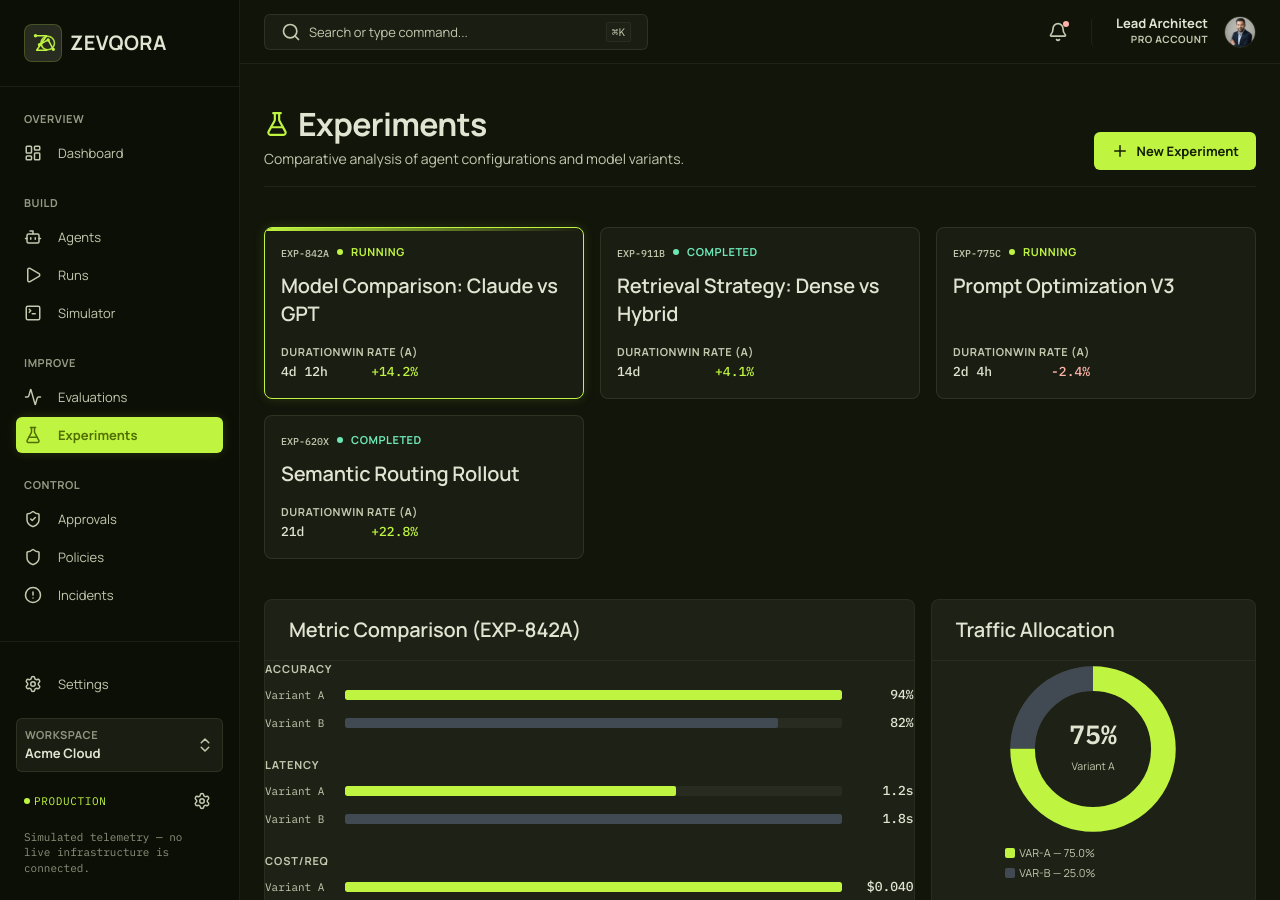
Test: Experiments › selecting an experiment updates the comparison title and metrics
The width and height of the screenshot is (1280, 900).
Expected: the heading "Metric Comparison (EXP-842A)" is shown, [289,616,581,644]
What coordinates should you click on to do the following:
click the heading "Retrieval Strategy: Dense vs Hybrid"
I would click on:
 (760, 300)
Its box is [617,272,903,328].
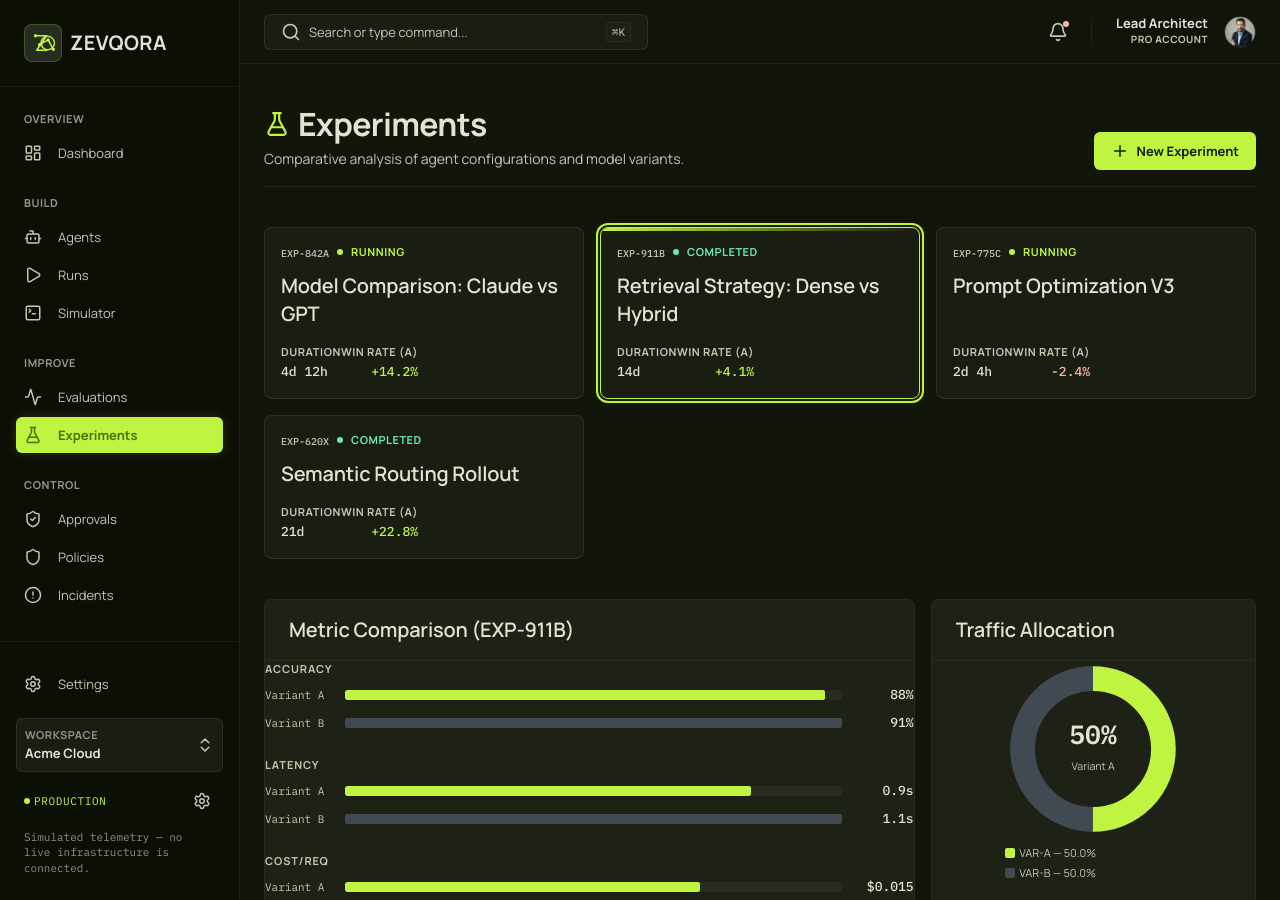
Now the heading "Metric Comparison (EXP-911B)" is shown, box [289,616,574,644]
